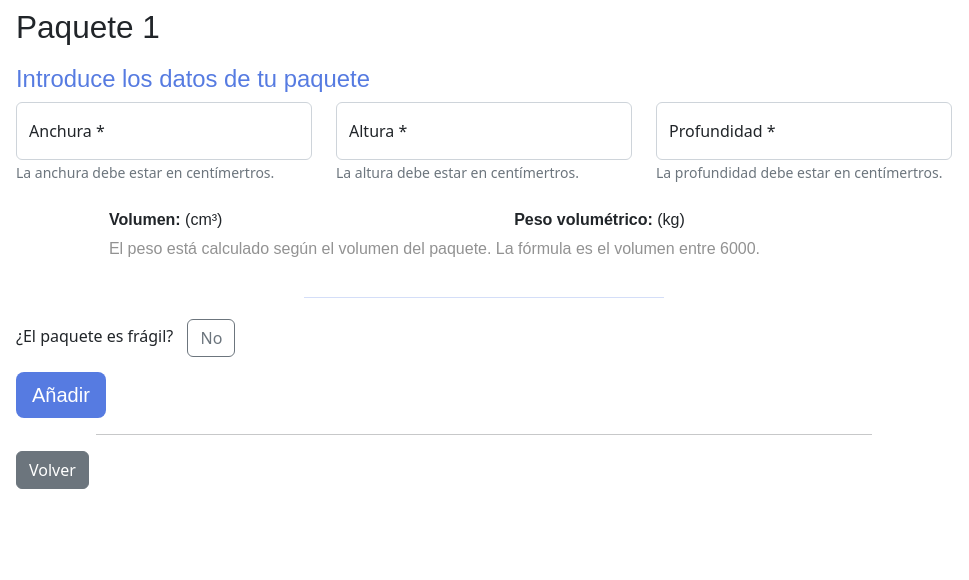
it: SendPackage › Muestra el texto "Introduzca correctamente los datos del paquete." en el caso de que falte introducir algún dato o algún dato sea negativo y se dé al botón de a
In the number field labelled "Anchura *": point(164, 130) [16,102,312,160], type "-10"
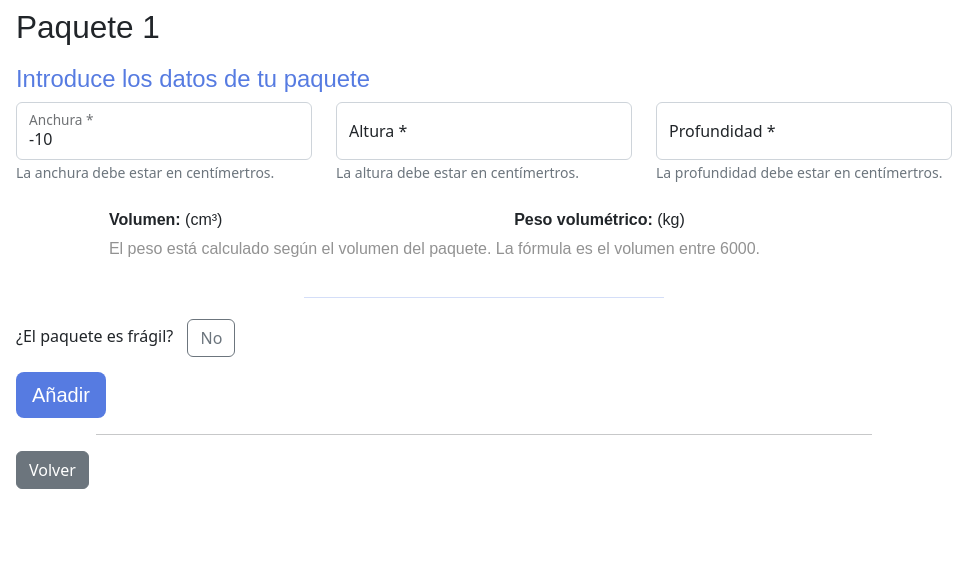
In the number field labelled "Altura *": point(484, 130) [336,102,632,160], type "10"
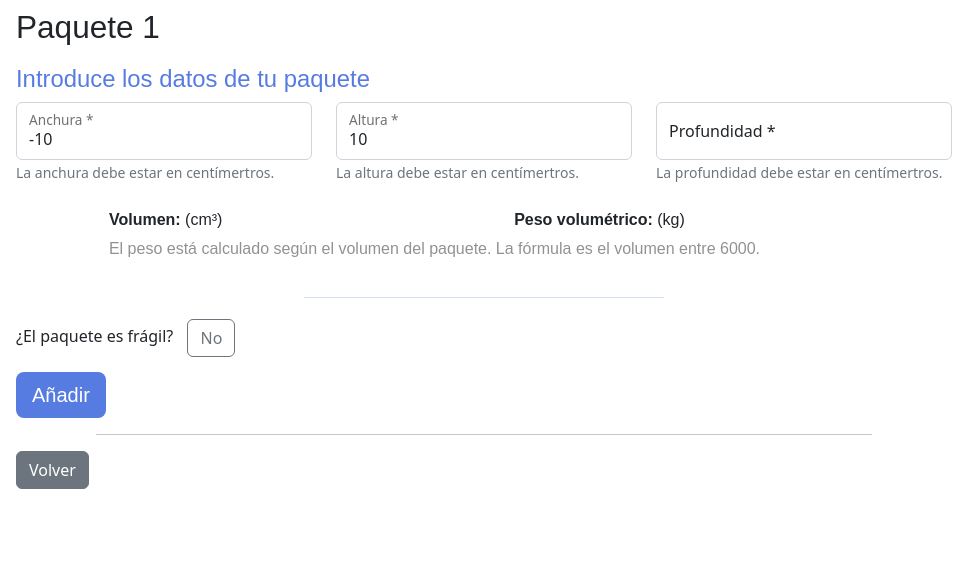
In the number field labelled "Profundidad *": point(804, 130) [656,102,952,160], type "10"
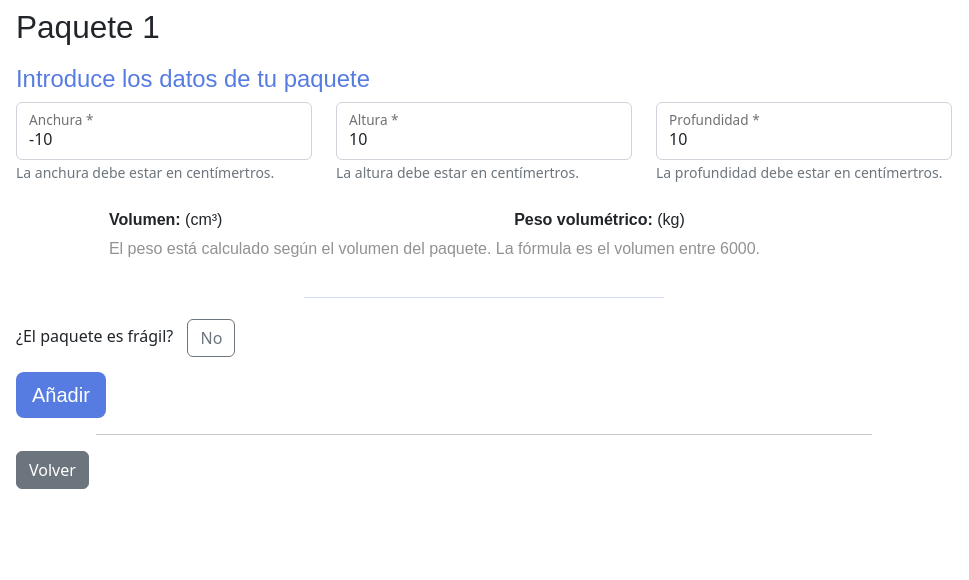
Click the button "Añadir": point(61, 395) [16,372,106,418]
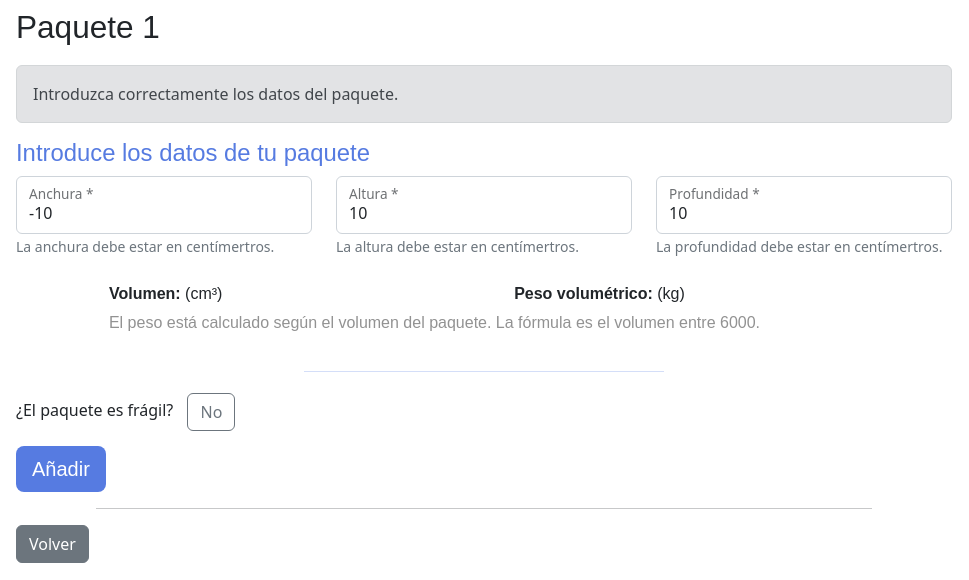
expect the text "Introduzca correctamente los datos del paquete." is shown: met, box [16,65,952,123]
